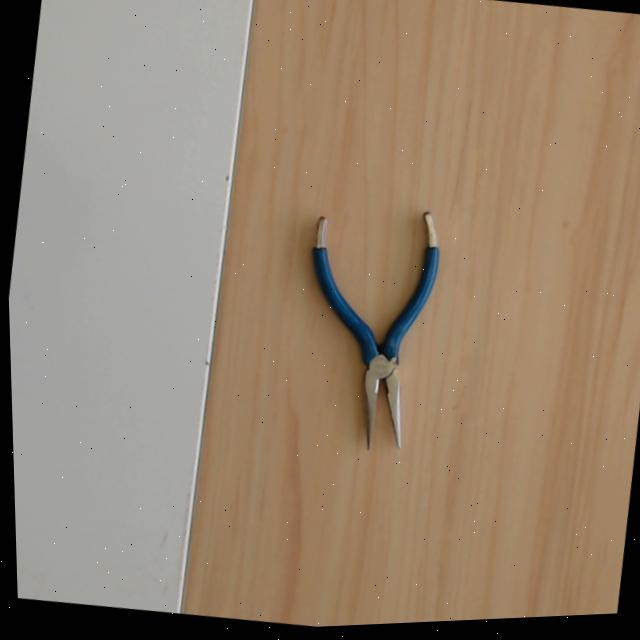Tang-Jepit-Biru: (310, 207, 456, 454)
